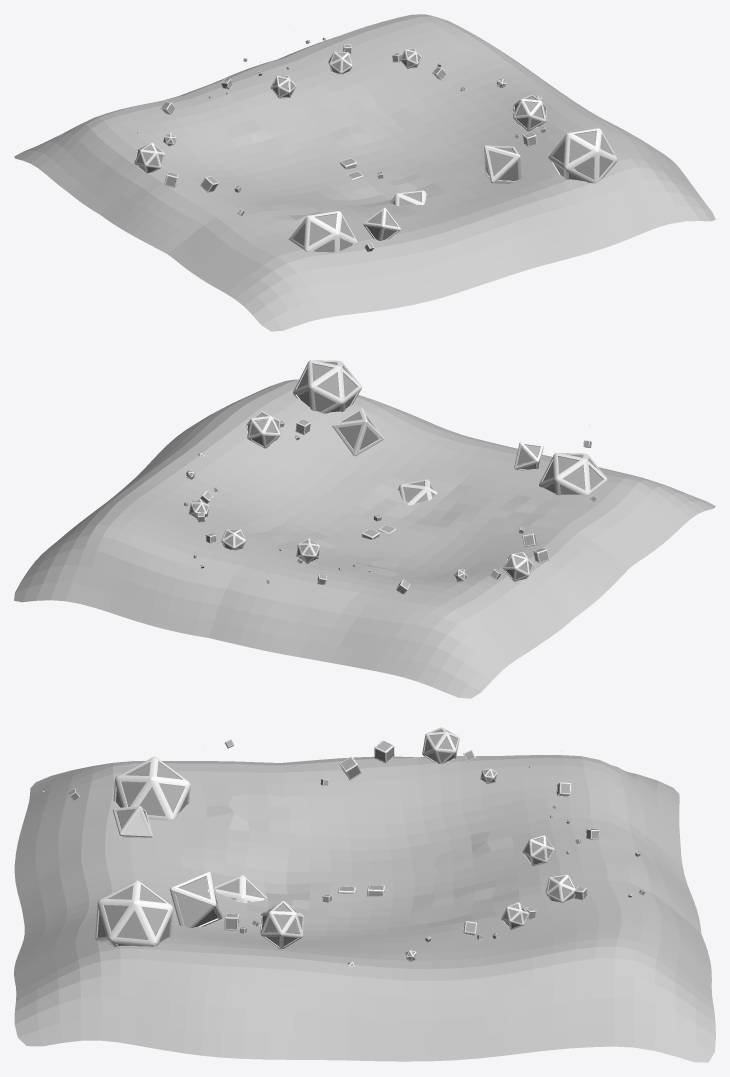
File: world-gmtk 1.fbx
3 views of the same model, one above another, from view 1: azimuth 30°, elevation 25°; view 2: azimuth 150°, elevation 25°; view 3: azimuth 270°, elevation 25° (orthographic). The views are drawn at different scales.
Parts seen in each view (by area): view 1: Cube, 20sided, 20sided - copy, Molten Rock, 8sided, Molten Rock.002, 20sided.001, 8sided - copy, 20sided Duplicator|20sided - copy.001|Dupli|1; view 2: Cube, 20sided, 20sided - copy, 8sided, 20sided.001, 20sided - copy.001, Molten Rock.001, 8sided - copy, 20sided Duplicator|20sided - copy.001|Dupli|1, Molten Rock; view 3: Cube, 20sided, 20sided - copy, 8sided, 20sided.001, Molten Rock.001, Molten Rock, Molten Rock.002, 20sided Duplicator|20sided - copy.001|Dupli|1, 8sided - copy, 20sided - copy.001, 20sided Duplicator|20sided - copy.001|Dupli|4 (+1 smaller).
Boxes of the visible parts, x1,y1,x2,y2 form: Cube: (14,14,715,331); 20sided: (548,128,617,183); 20sided - copy: (288,211,357,252); Molten Rock: (326,94,396,133); 8sided: (484,145,521,183); Molten Rock.002: (251,129,299,156); 20sided.001: (512,94,547,131); 8sided - copy: (363,207,400,240); 20sided Duplicator|20sided - copy.001|Dupli|1: (134,142,164,173); Cube: (14,379,715,698); 20sided: (293,360,361,413); 20sided - copy: (539,453,607,495); 8sided: (332,408,383,456); 20sided.001: (246,411,280,448); 20sided - copy.001: (398,479,437,505); Molten Rock.001: (503,504,548,526); 8sided - copy: (514,442,543,470); 20sided Duplicator|20sided - copy.001|Dupli|1: (503,552,533,581); Molten Rock: (255,525,320,547); Cube: (14,755,715,1062); 20sided: (95,880,173,946); 20sided - copy: (113,756,190,820); 8sided: (169,871,222,927); 20sided.001: (260,901,303,948); Molten Rock.001: (228,794,290,821); Molten Rock: (428,886,496,922); Molten Rock.002: (433,842,490,872); 20sided Duplicator|20sided - copy.001|Dupli|1: (422,727,459,763); 8sided - copy: (113,806,153,838); 20sided - copy.001: (214,875,266,902); 20sided Duplicator|20sided - copy.001|Dupli|4: (522,835,554,866).
Size of the model in its own units: 7941 by 1706 by 7904.
